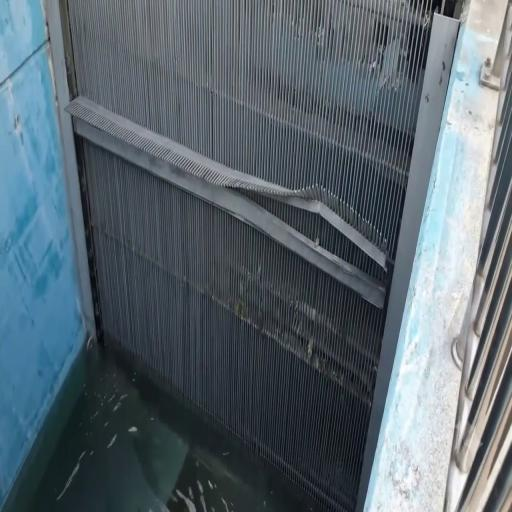rake_broken: (200, 172, 397, 275)
